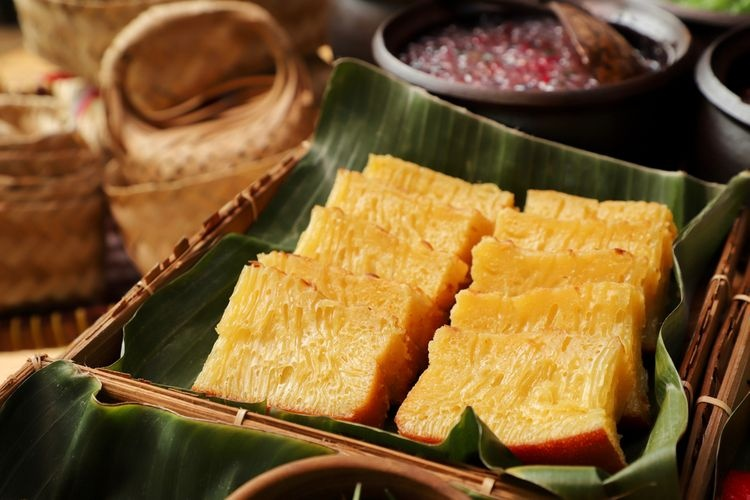bika_ambon: (279, 140, 682, 475), (185, 251, 431, 434)
